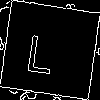L: (24, 24, 57, 75)
